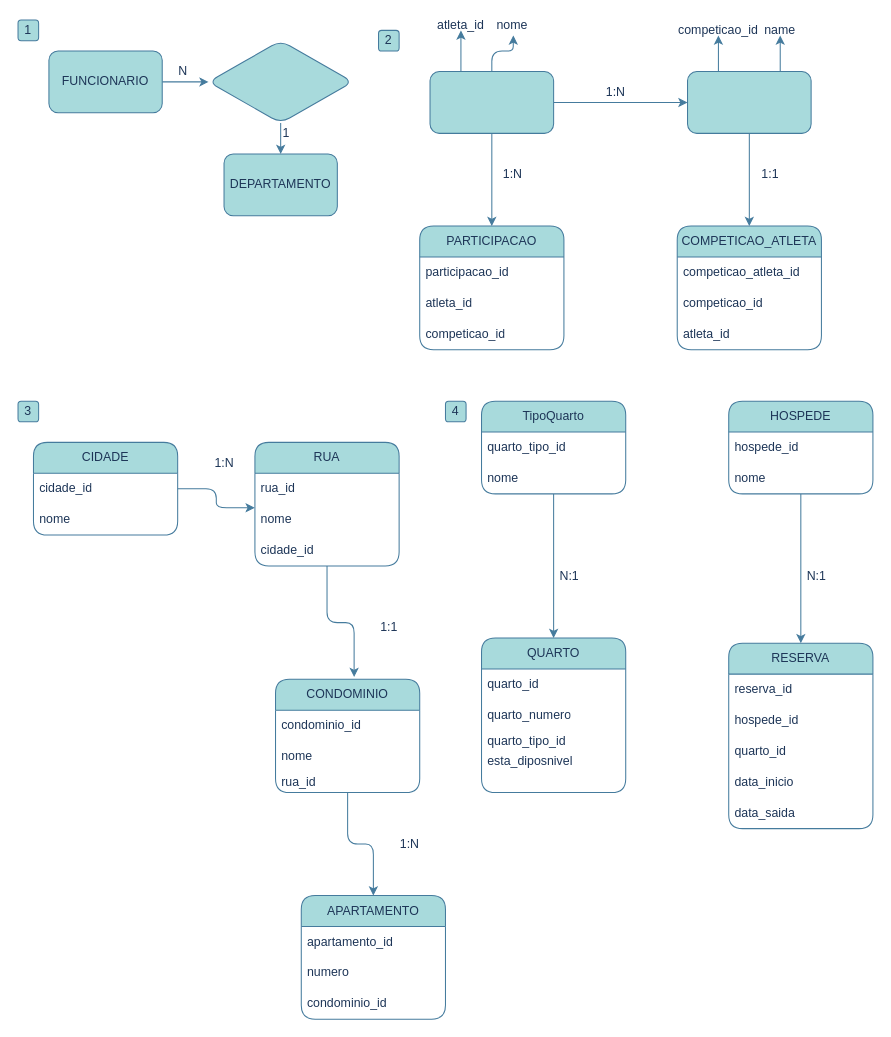
Image size: 891x1037. Some labels were removed from this diagram. Here are the shapes that lost their labels. From the top down, the centre of each, then its label:
At (280,81): "TRABALHA_PARA".
At (491,102): "ATLETA".
At (748,102): "COMPETICAO".
